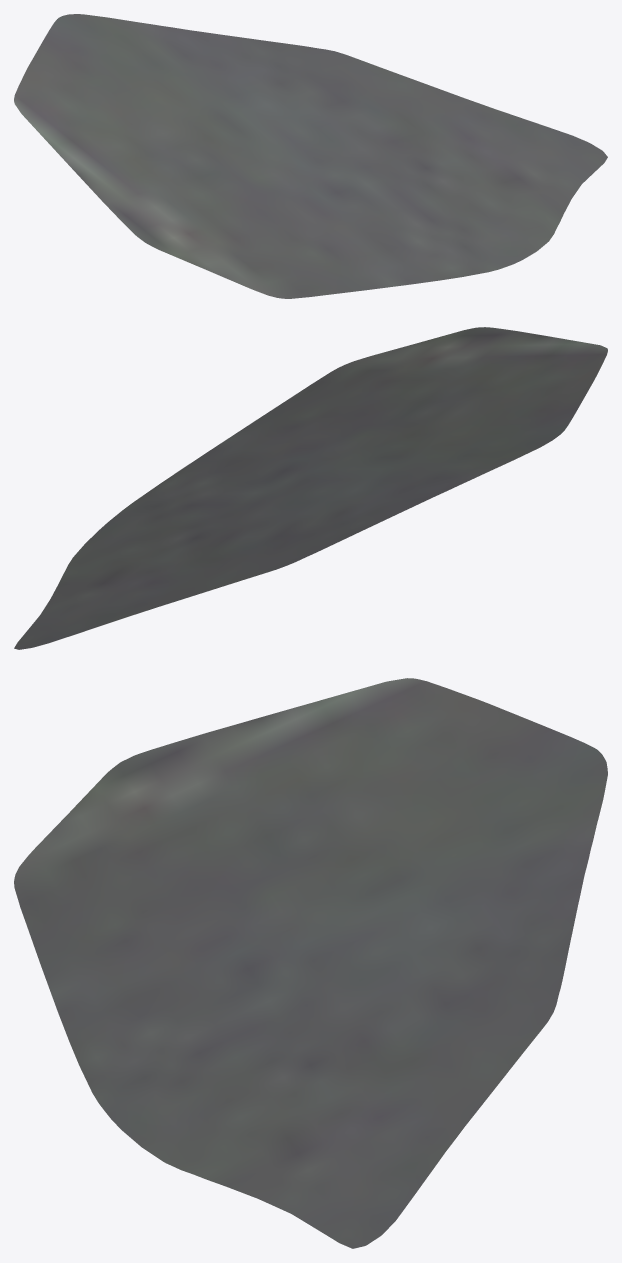
The model's file is Stump_RightForeArm.gltf.
3 renders of one model, top to bottom at view 1: azimuth 30°, elevation 25°; view 2: azimuth 210°, elevation 25°; view 3: azimuth 270°, elevation 25°, orthographic. The views are drawn at different scales.
Visible parts, largest first — view 1: Stump_RightForeArm; view 2: Stump_RightForeArm; view 3: Stump_RightForeArm.
Part boxes in pixels (x1,y1,x2,y2): Stump_RightForeArm: (14, 14, 607, 298); Stump_RightForeArm: (14, 327, 607, 649); Stump_RightForeArm: (14, 678, 607, 1248).
Size of the model in its own units: 0.3434 by 0.1024 by 0.246.
1 material, 1 textured.
